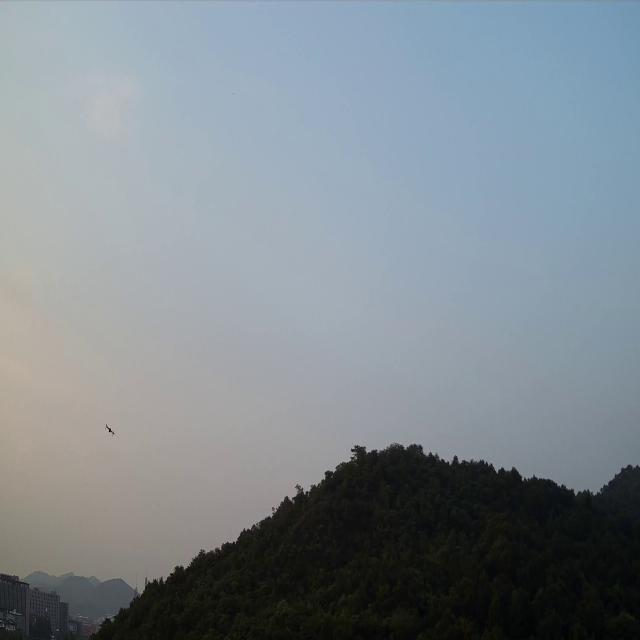UAV: (105, 422, 115, 437)
